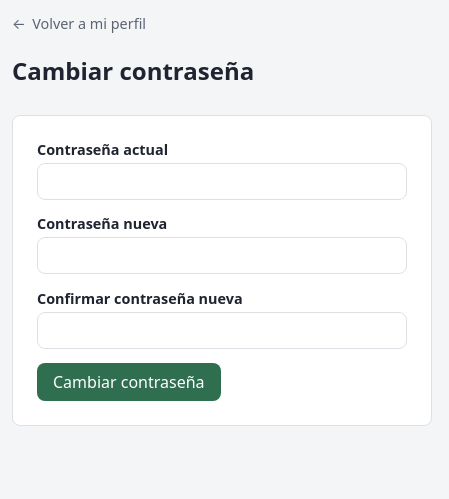
Test: ChangePassword › muestra el mensaje de la API si falla con ApiError
This screenshot has width=449, height=499.
Type "actualmal" into the password field labelled "Contraseña actual". click: (222,182)
box: [37,163,407,200]
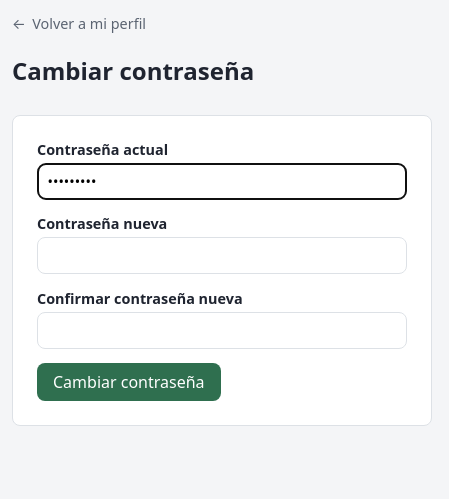
Type "nueva1234" into the password field labelled "Contraseña nueva". click: (222,256)
box: [37,237,407,274]
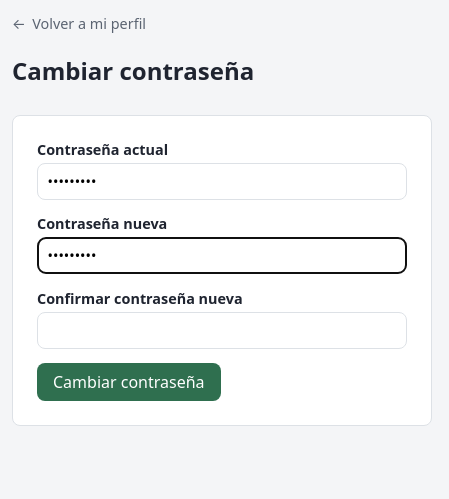
Type "nueva1234" into the password field labelled "Confirmar contraseña nueva". click: (222,330)
box: [37,312,407,349]
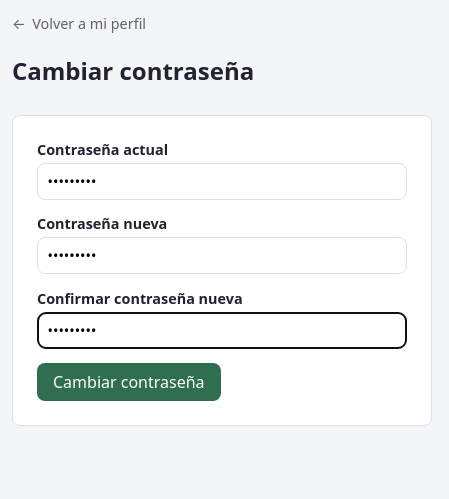
Click the button "Cambiar contraseña". click: (129,382)
box: [37,363,221,401]
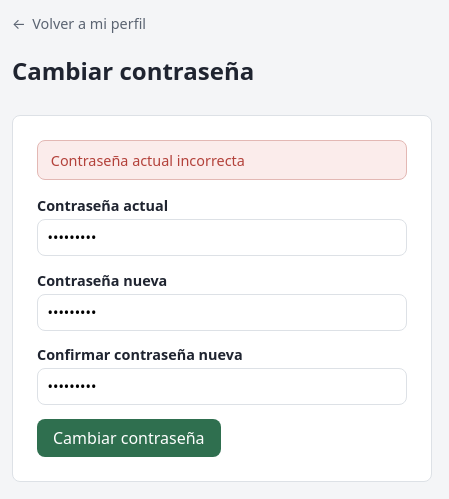
expect the text "Contraseña actual incorrecta" is shown: met, box [37,140,407,180]
